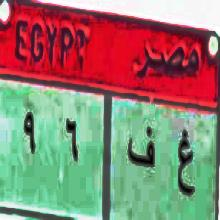6: (64, 115, 82, 176)
9: (21, 108, 38, 170)
faa: (127, 123, 158, 185)
ghayn: (174, 125, 197, 208)
